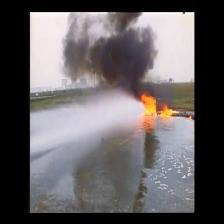fire: (140, 96, 180, 120)
smoke: (61, 12, 160, 90)
